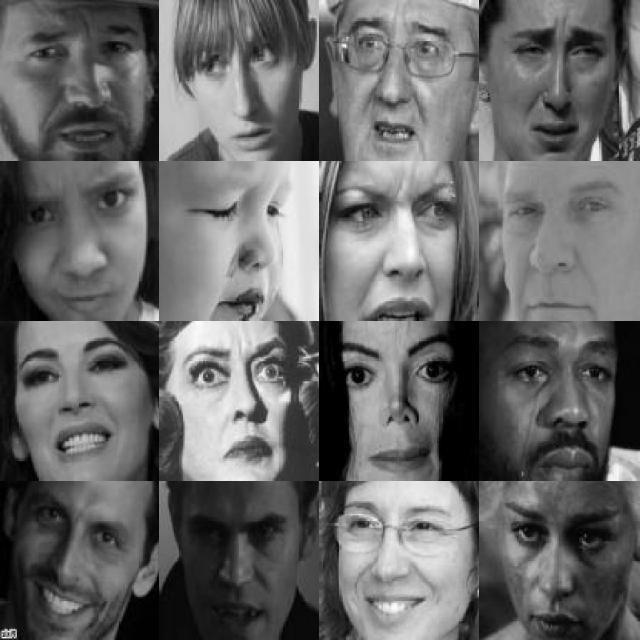anger: (495, 489, 631, 640), (333, 161, 462, 317), (15, 164, 143, 316), (17, 11, 146, 155), (503, 170, 626, 319), (184, 494, 290, 640)
fear: (340, 4, 468, 158), (177, 328, 299, 472), (190, 20, 294, 157)
happy: (16, 478, 138, 640), (12, 322, 140, 473), (334, 491, 457, 640)
neutral: (336, 330, 458, 476)
sad: (489, 323, 623, 479), (172, 164, 301, 320), (505, 11, 614, 155)
